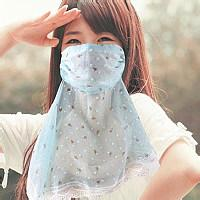face_mask: (60, 8, 126, 94)
